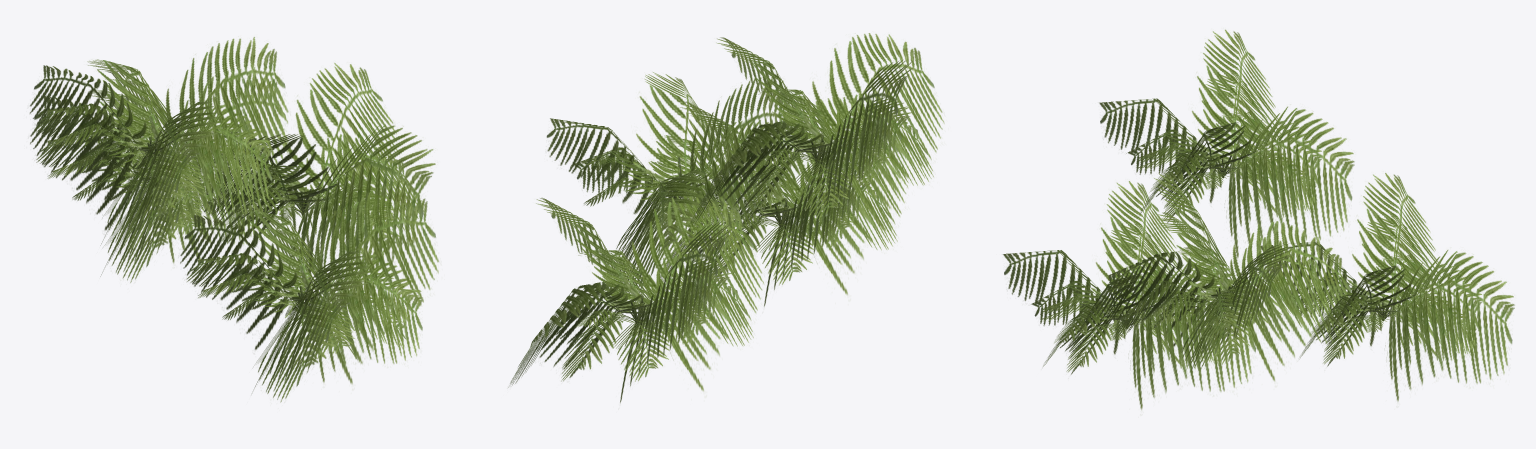
File: ferns.gltf
The picture shows the model from 3 angles, left to right: view 1: azimuth 30°, elevation 25°; view 2: azimuth 150°, elevation 25°; view 3: azimuth 270°, elevation 25°; orthographic projection. The views are drawn at different scales.
Parts seen in each view (by area): view 1: ferns; view 2: ferns; view 3: ferns.
Part boxes in pixels (x1,y1,x2,y2): ferns: (29, 37, 438, 402); ferns: (508, 33, 944, 402); ferns: (1002, 29, 1514, 409).
Size of the model in its own units: 21.28 by 19.51 by 30.
Materials: 1 (1 with a texture image).
